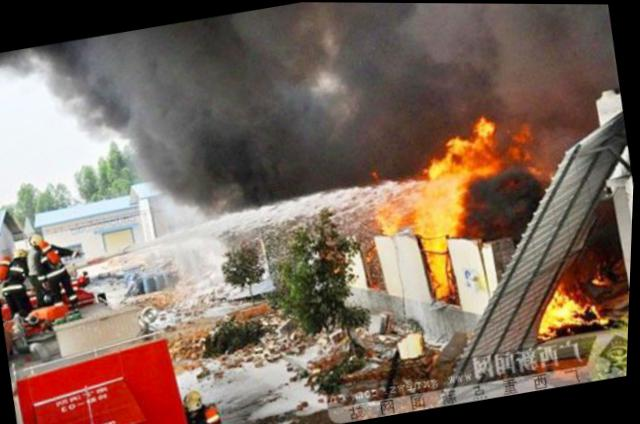fire: (410, 185, 470, 236), (424, 136, 481, 188), (467, 117, 504, 176), (375, 196, 408, 240), (556, 289, 586, 326), (430, 252, 455, 296), (540, 302, 561, 336), (425, 233, 450, 252)
